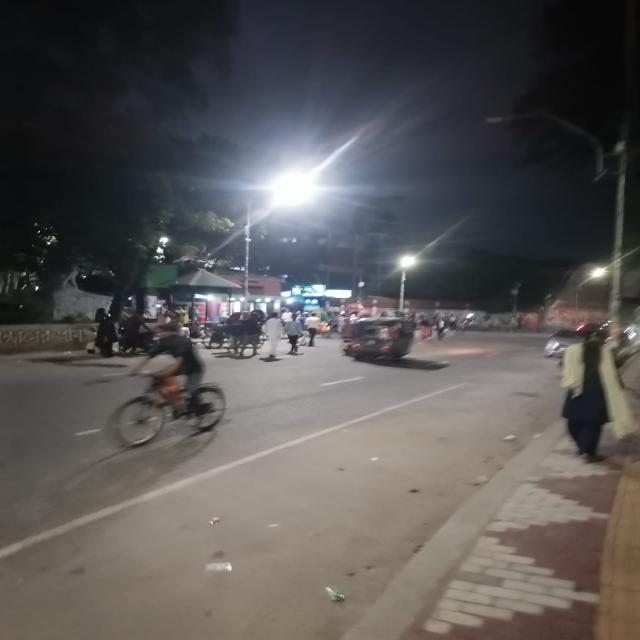person: (264, 312, 283, 360), (285, 314, 302, 354)
